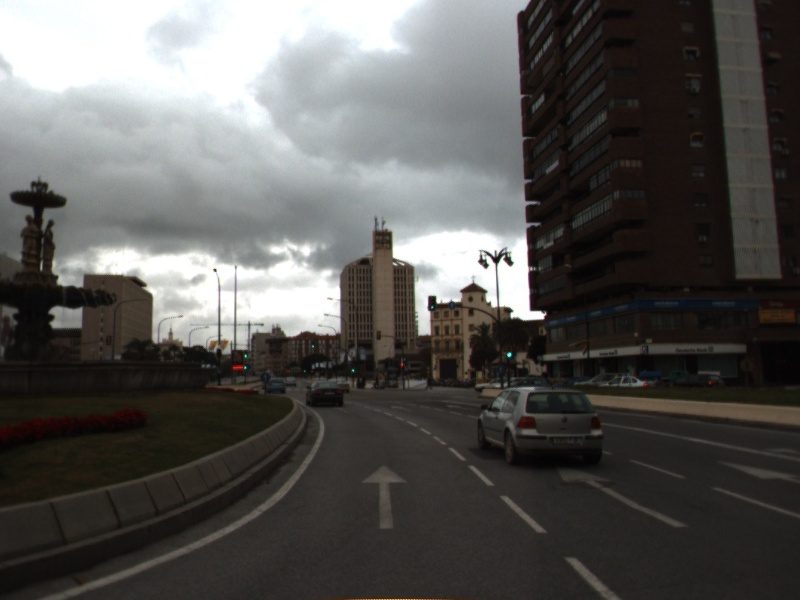STRAIGHT: (554, 464, 692, 530), (359, 462, 410, 531), (714, 458, 800, 486)
